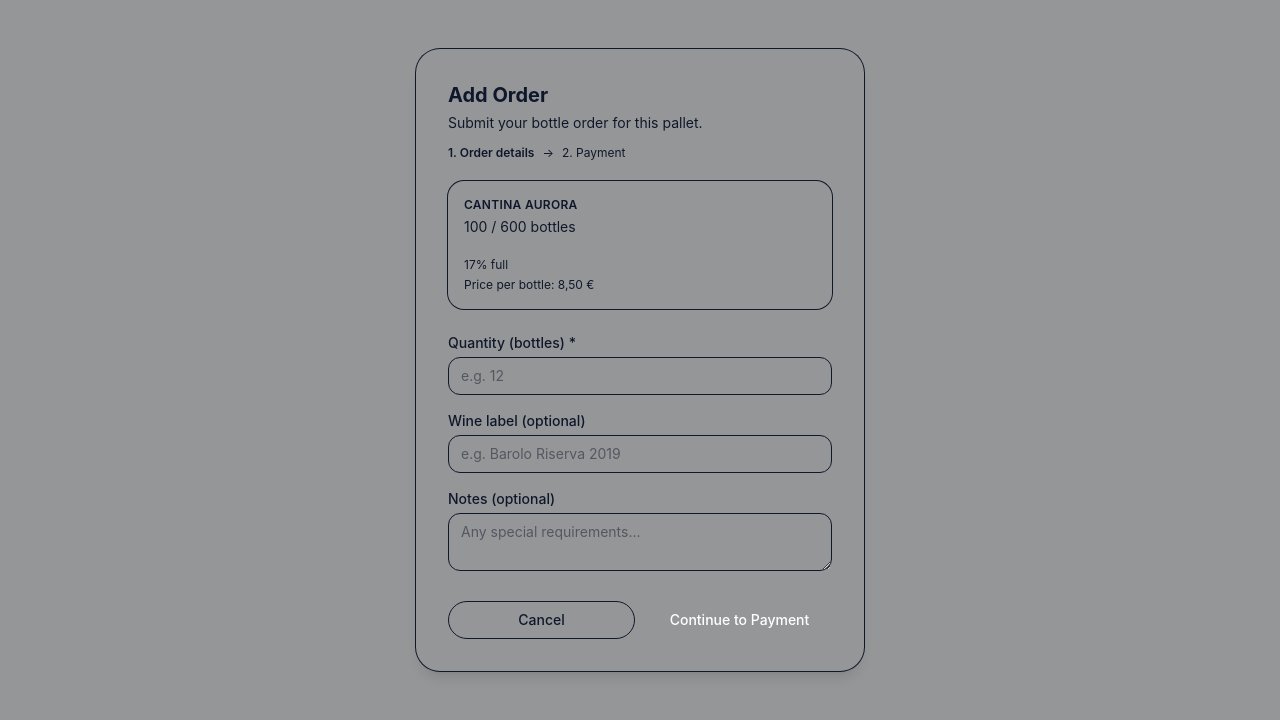
Test: AddOrderModal › blocks step 1 when quantity is empty
This screenshot has width=1280, height=720.
Click the button "Continue to Payment": (740, 620) [647,601,832,639]
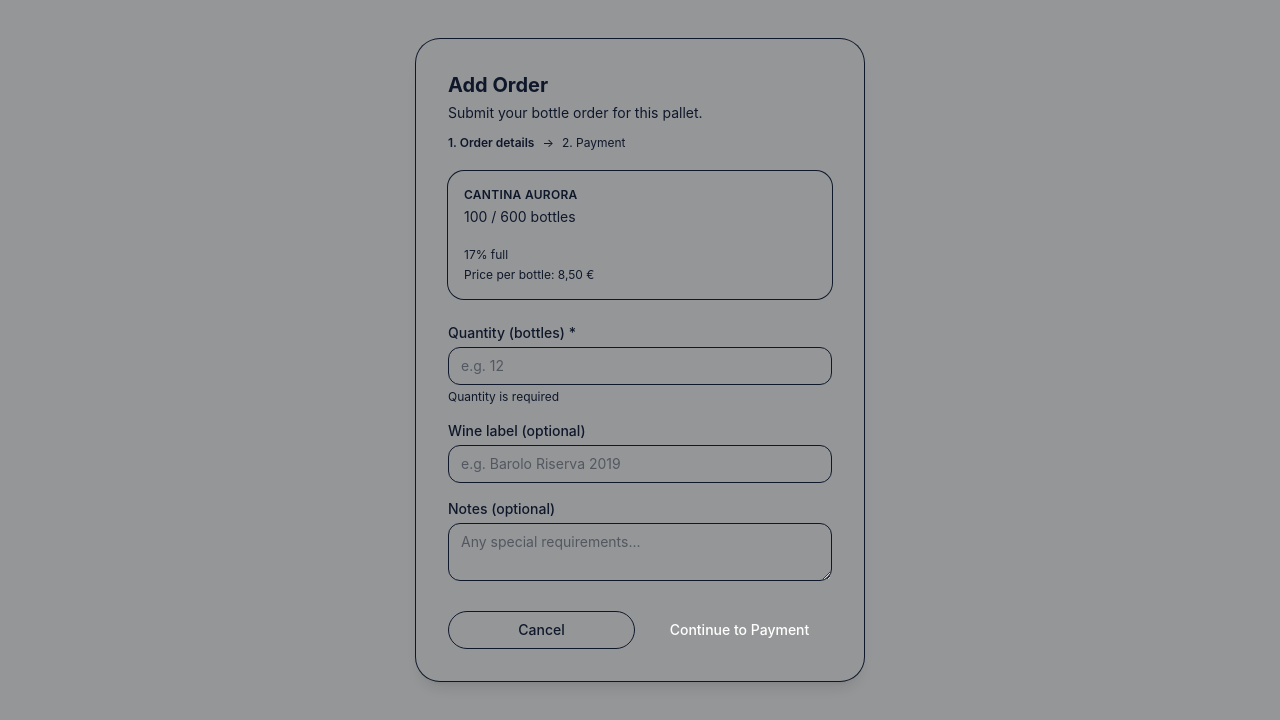
Expected: the message shows "required", [448,389,559,404]
